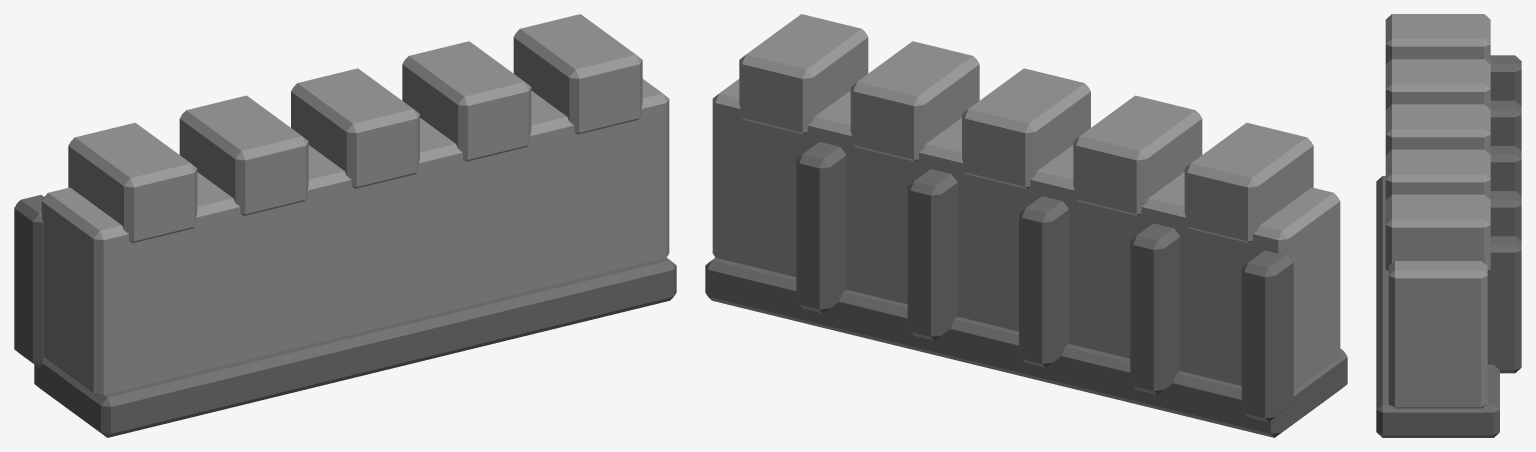
File: wall.glb
The picture shows the model from 3 angles, left to right: view 1: azimuth 30°, elevation 25°; view 2: azimuth 150°, elevation 25°; view 3: azimuth 270°, elevation 25°; orthographic projection. The views are drawn at different scales.
Visible parts, largest first — view 1: wall; view 2: wall; view 3: wall.
Boxes of the visible parts, left/top/right/bottom form: wall: left=14, top=14, right=676, bottom=437; wall: left=705, top=14, right=1347, bottom=437; wall: left=1376, top=14, right=1521, bottom=437.
Size of the model in its own units: 1.81 by 0.74 by 0.47.
Materials: 1 (1 with a texture image).
